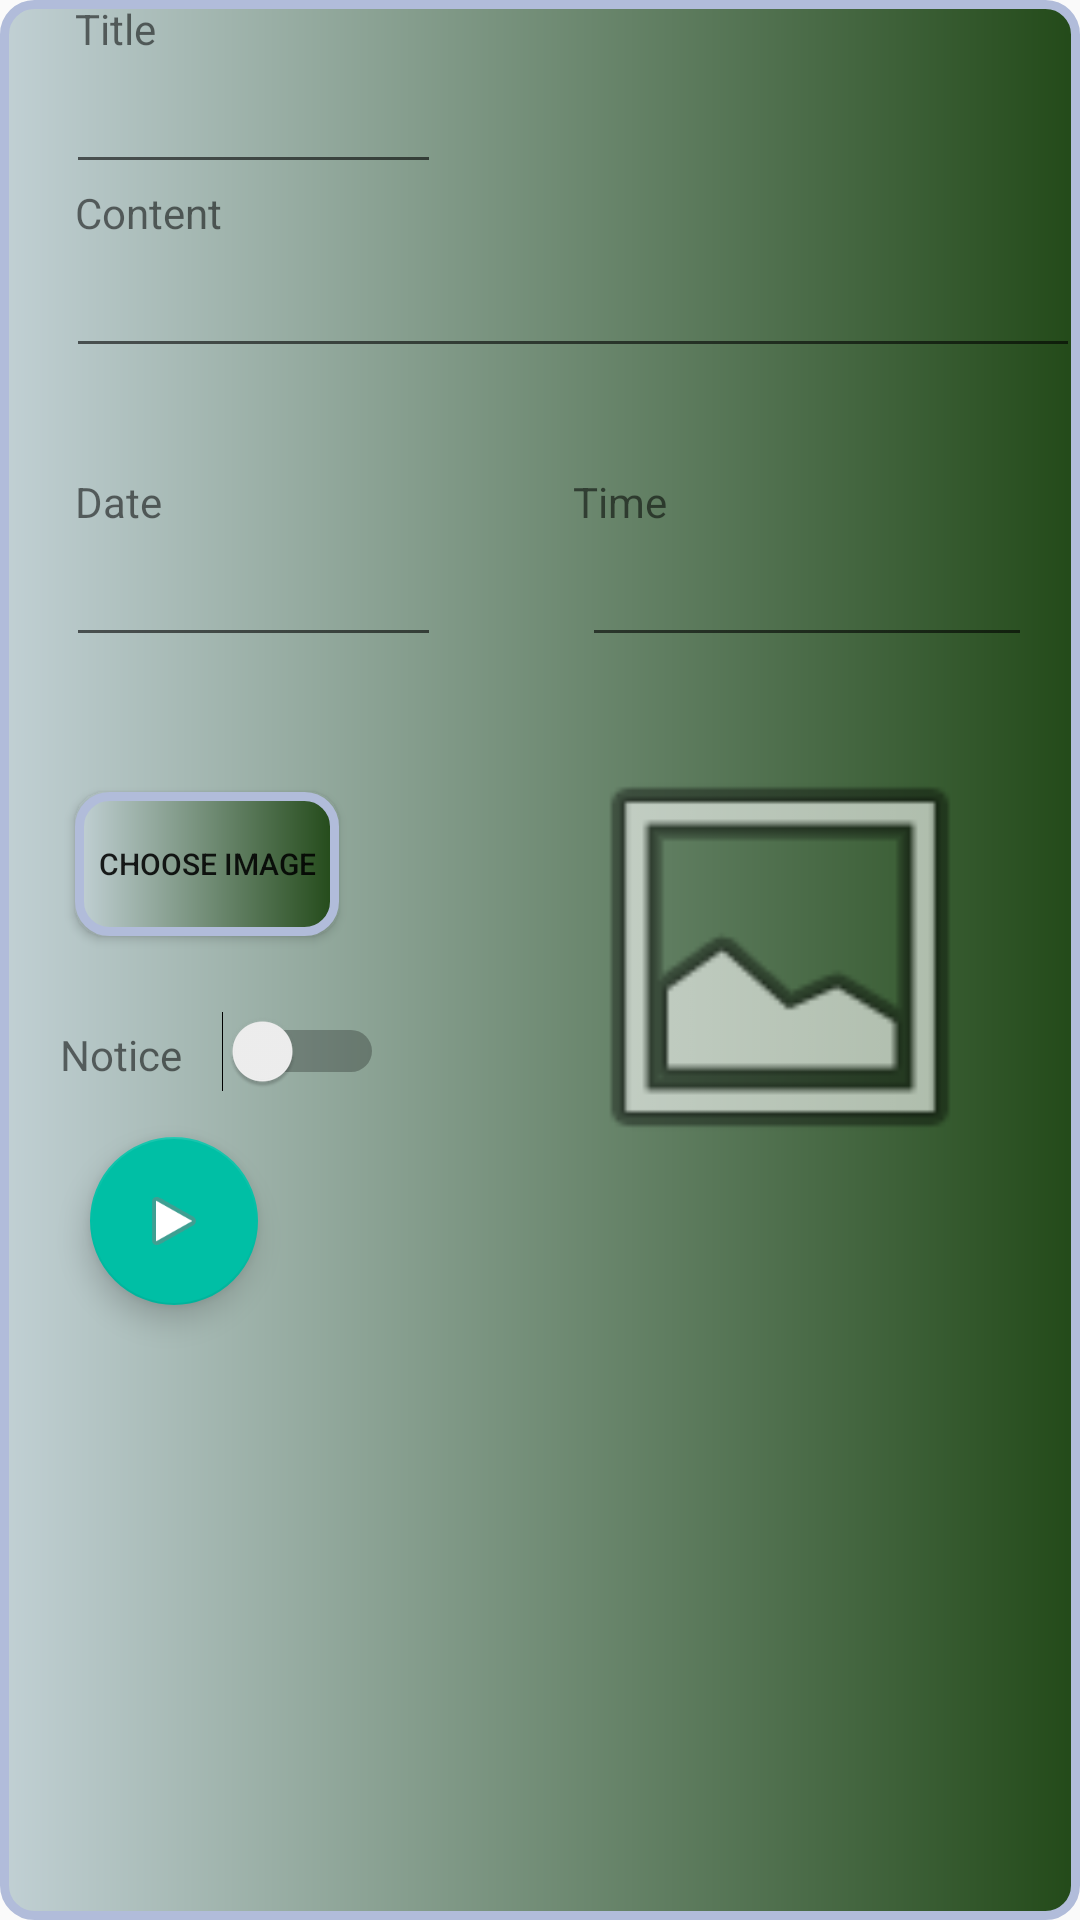

Screen size 1080 × 1920. Icon name, then its center in pixels as (x,y):
play: (174,1221)
